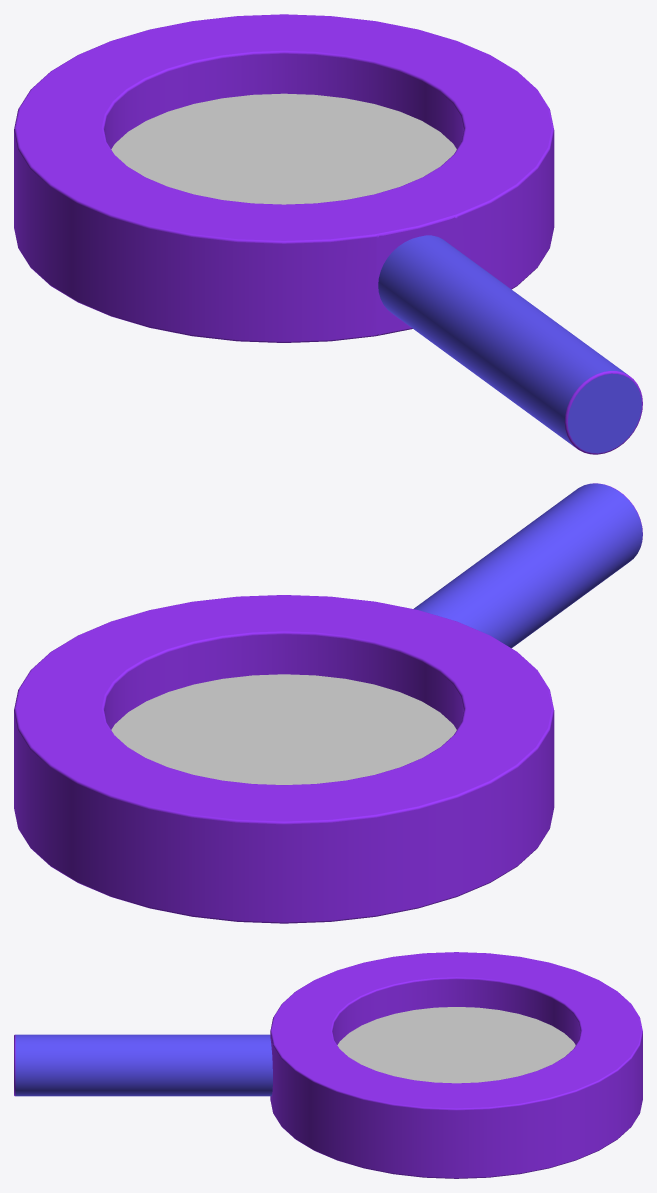
File: magnifying_glass.fbx
3 renders of one model, top to bottom at view 1: azimuth 30°, elevation 25°; view 2: azimuth 150°, elevation 25°; view 3: azimuth 270°, elevation 25°, orthographic. The views are drawn at different scales.
Visible parts, largest first — view 1: Enclosure, TopGlass; view 2: Enclosure, TopGlass; view 3: Enclosure, TopGlass.
Boxes of the visible parts, <box> form: Enclosure: <box>14,14,642,454</box>; TopGlass: <box>111,93,456,204</box>; Enclosure: <box>14,483,642,923</box>; TopGlass: <box>111,674,456,784</box>; Enclosure: <box>14,952,642,1178</box>; TopGlass: <box>337,1007,575,1083</box>.
Bounding box in the file's own units: 240 × 50 × 405.
